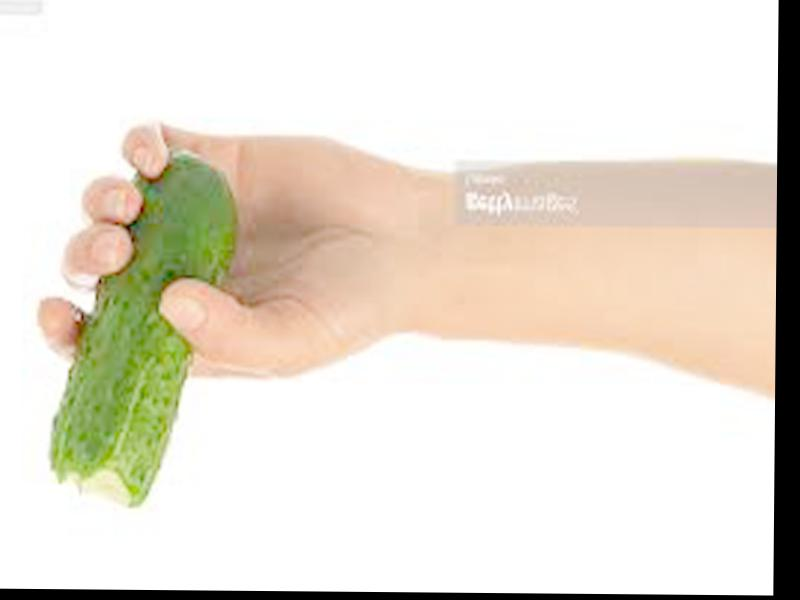Cucumber: (50, 152, 236, 508)
